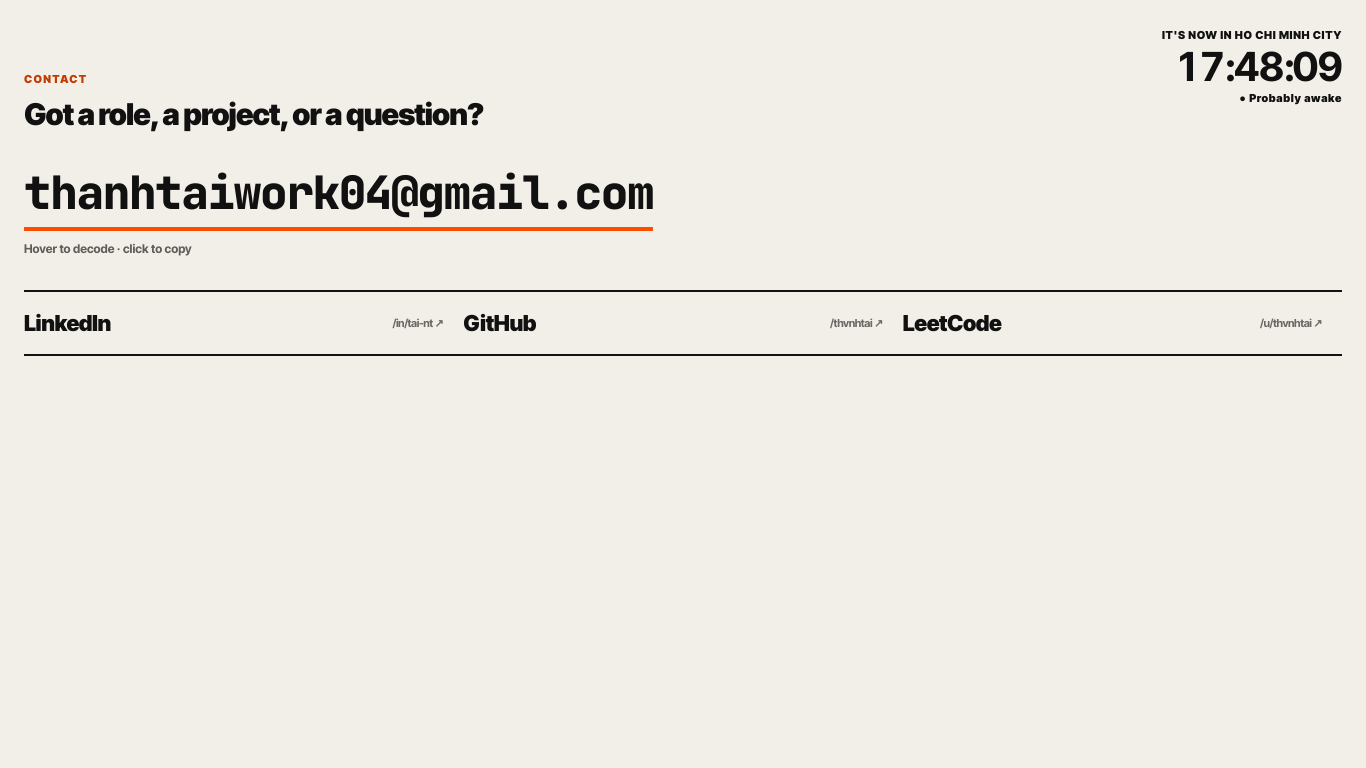
Test: failed copy shows the failure toast, not success
Click the button "thanhtaiwork04@gmail.com".
click(339, 196)  # box [24, 162, 653, 231]
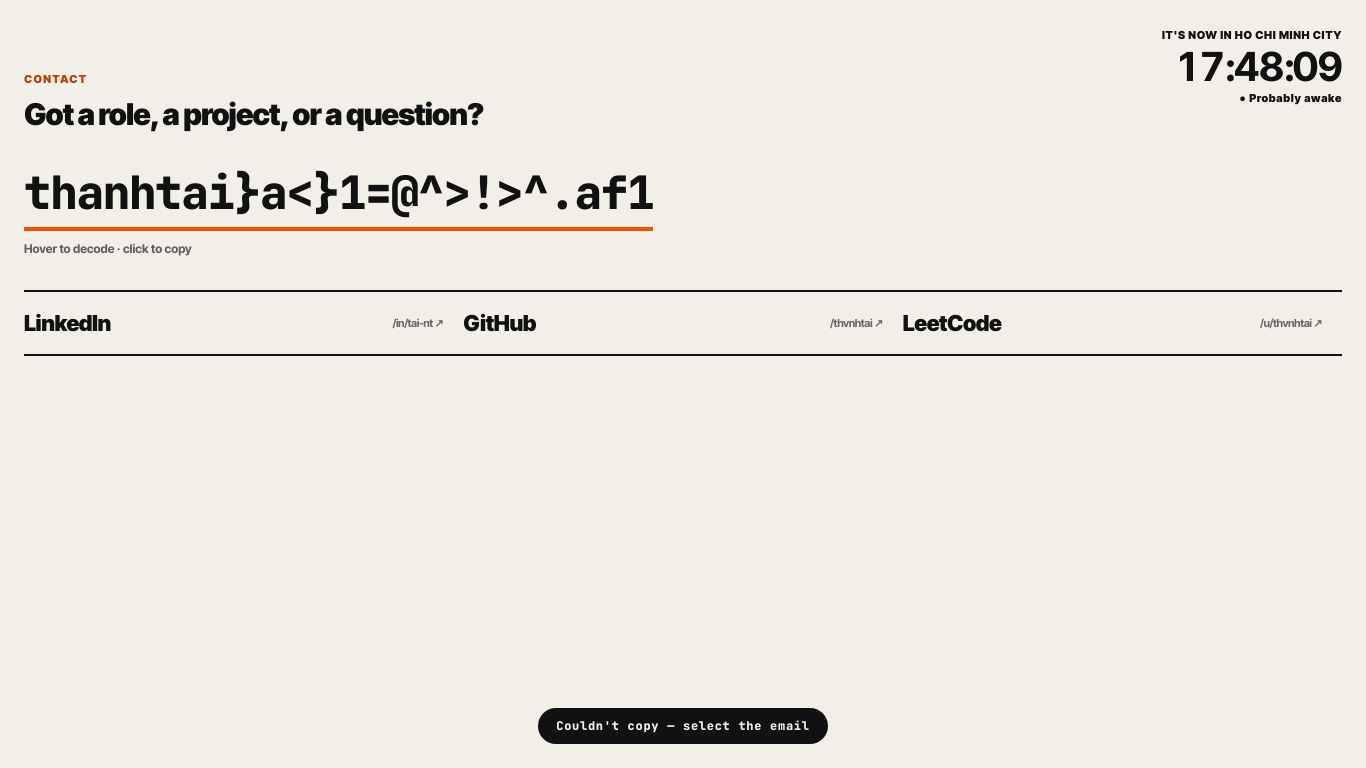
Now the text "Couldn't copy — select the email" is shown, box [538, 708, 828, 744]
